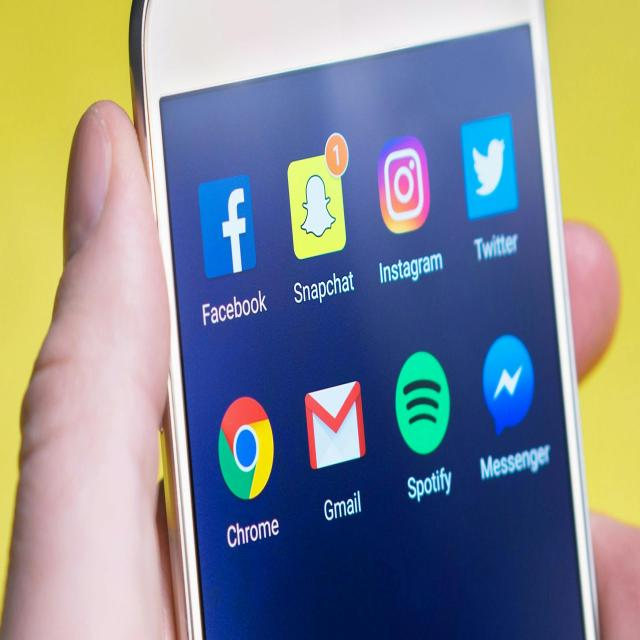Mobile: (126, 0, 610, 640)
